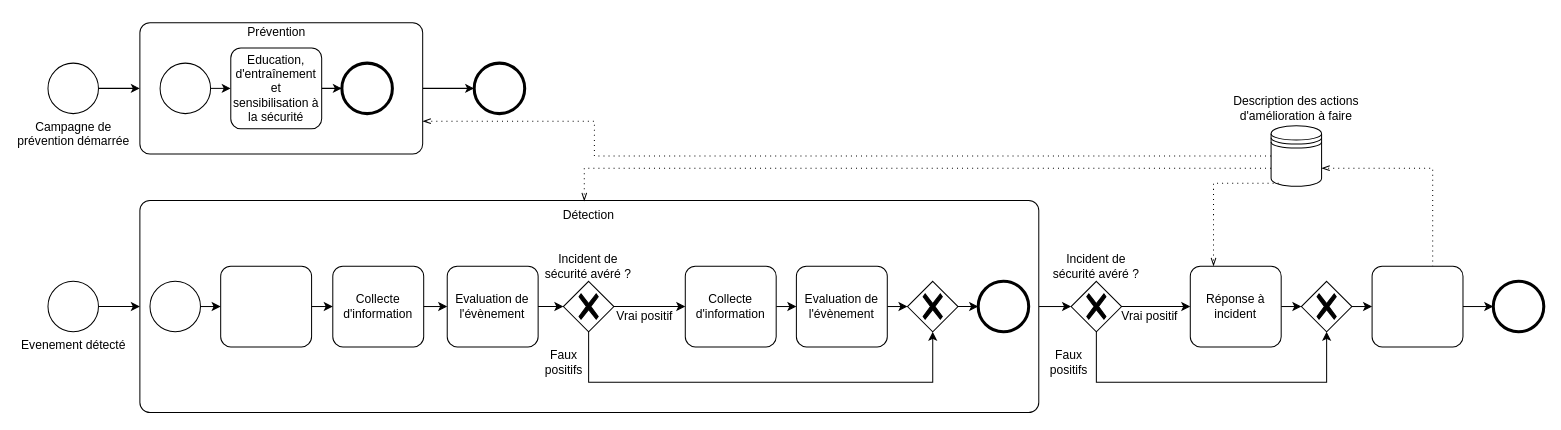
The diagram is 1561 pixels wide and 430 high, and some of its shapes have lost their labels. The shapes that lost their labels are listed below. From the top down, each one's centre as x and y in pixels, then its label:
At pixel 266 306: "Notification".
At pixel 1417 306: "Enseignements tirés".
